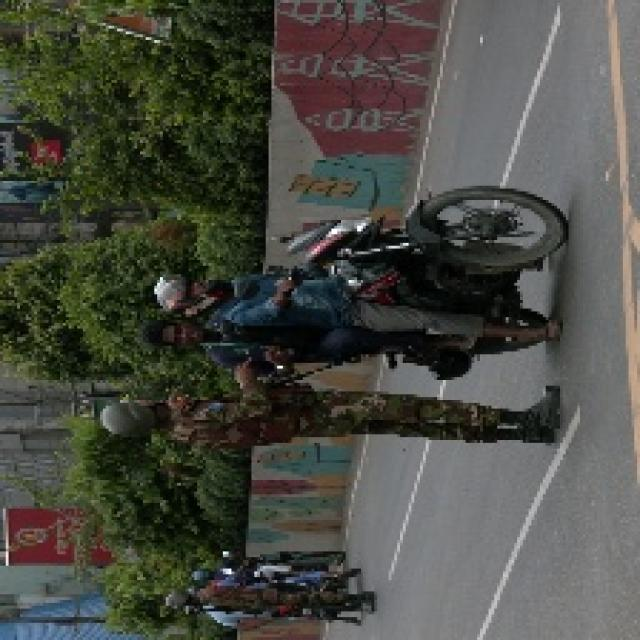bike: (258, 204, 560, 368)
